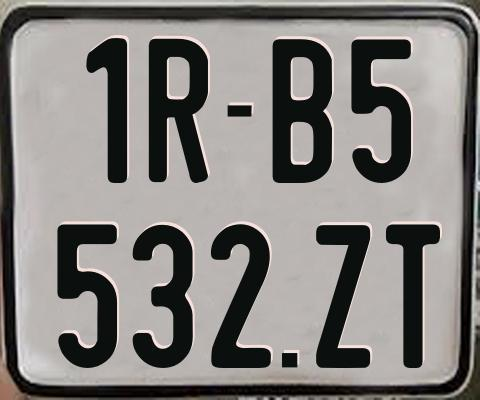1: (84, 35, 125, 186)
2: (211, 222, 272, 369)
3: (131, 224, 197, 373)
5: (55, 222, 121, 367), (349, 37, 413, 186)
B: (269, 36, 330, 181)
R: (147, 39, 208, 183)
T: (383, 223, 438, 367)
Z: (313, 224, 373, 369)
